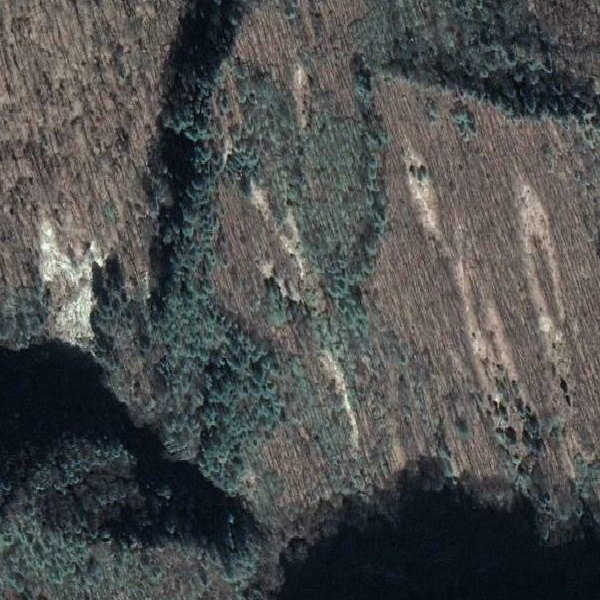slope: (18, 211, 121, 354), (510, 186, 570, 340), (398, 138, 447, 242)
